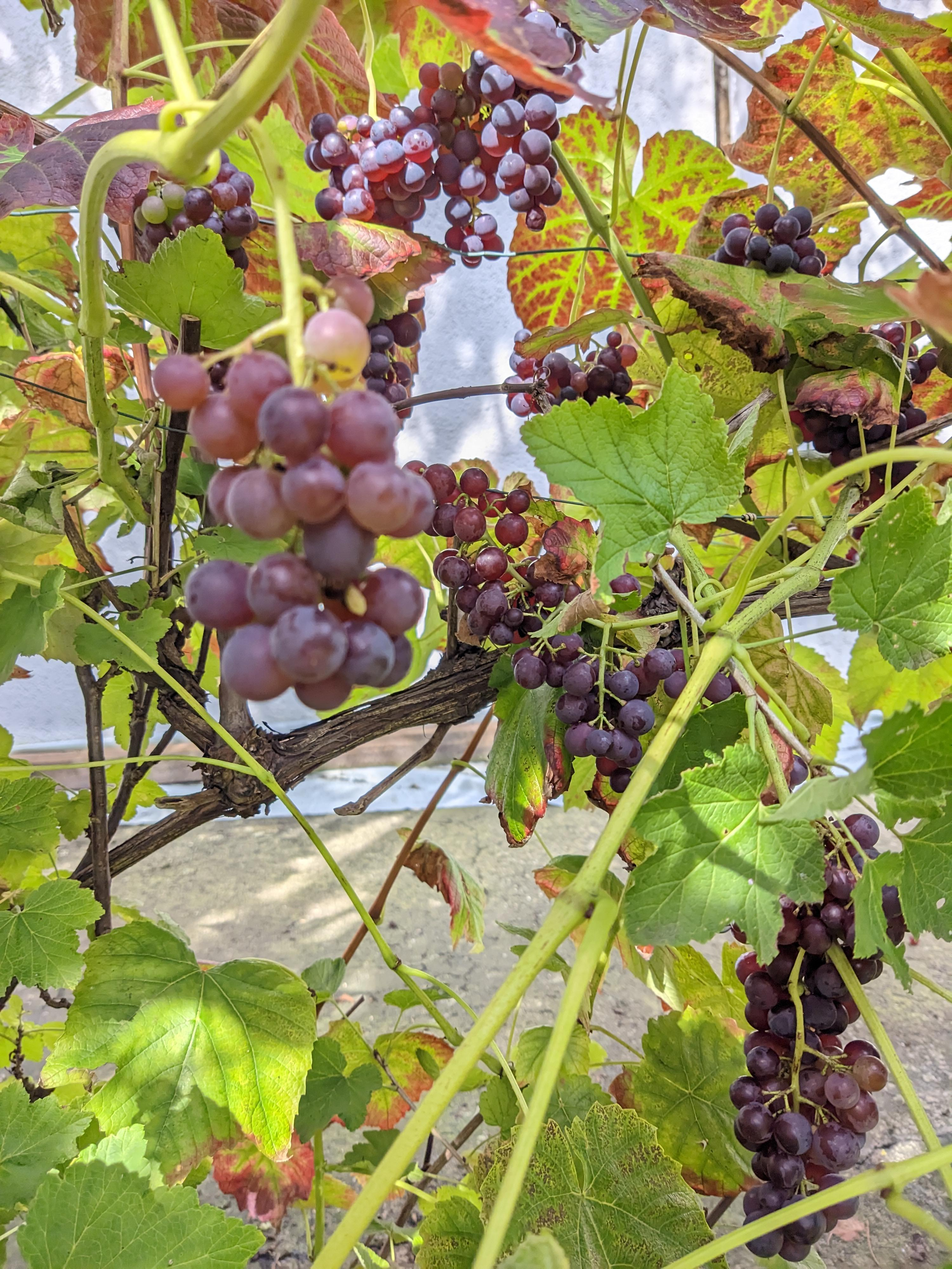Grape Ripe: (155, 348, 432, 710), (731, 829, 887, 1225), (418, 0, 582, 253), (514, 634, 733, 793), (417, 463, 592, 644), (786, 317, 940, 504), (133, 148, 260, 289), (307, 107, 430, 231), (506, 330, 637, 417), (707, 204, 826, 277), (362, 290, 428, 420), (747, 1198, 857, 1263)
